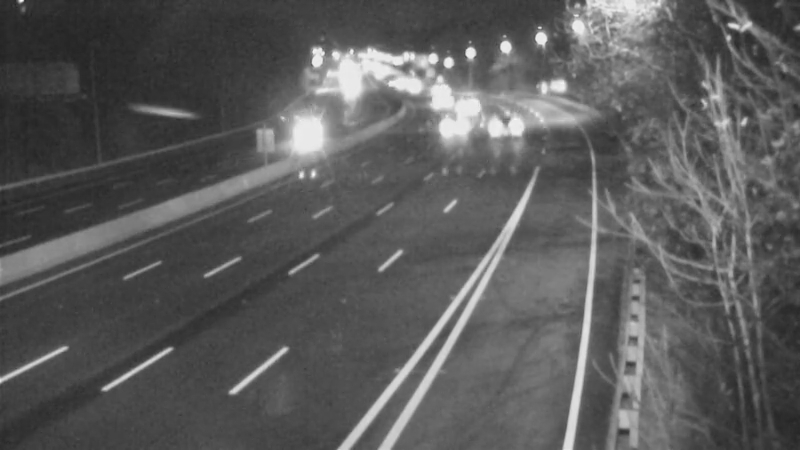vehicle: (413, 63, 463, 113), (409, 74, 459, 124), (439, 86, 489, 136), (427, 98, 477, 148), (477, 100, 527, 150), (268, 109, 318, 159)
